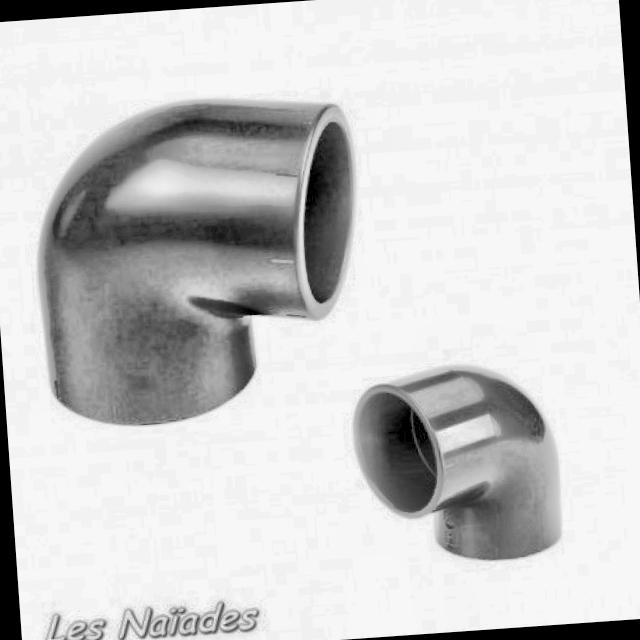ELBOW45: (35, 99, 358, 428)
ELBOW90: (35, 100, 358, 429), (350, 364, 566, 562)
